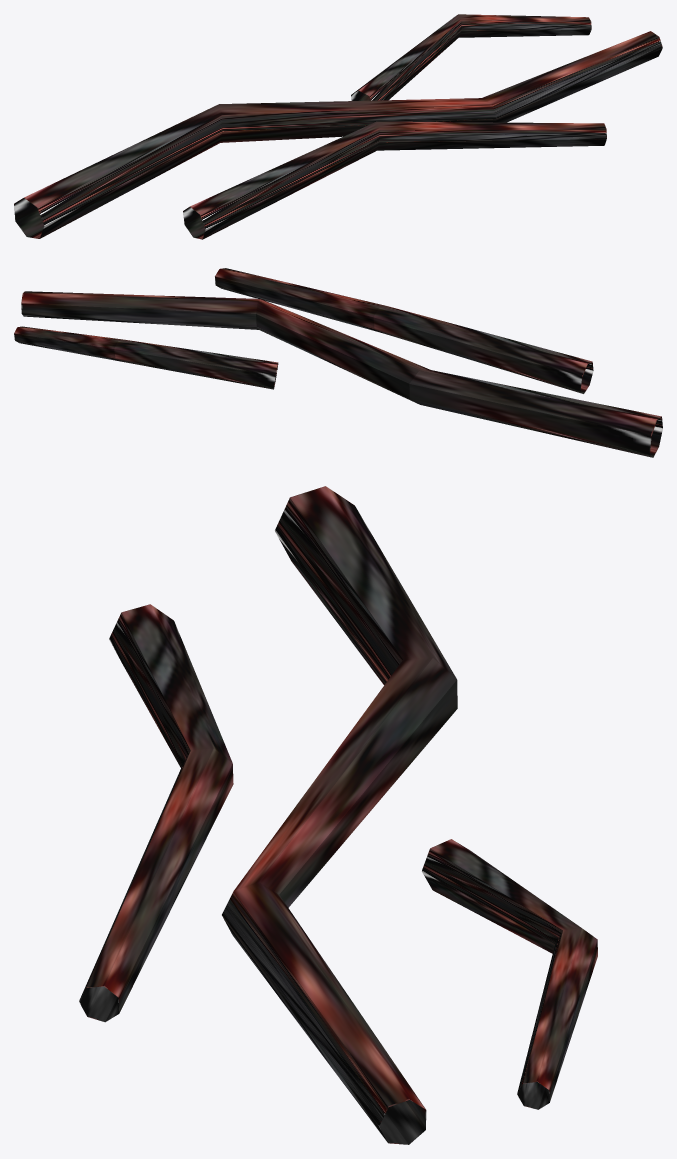
The model's file is canh-kho-roi.glb.
3 renders of one model, top to bottom at view 1: azimuth 30°, elevation 25°; view 2: azimuth 150°, elevation 25°; view 3: azimuth 270°, elevation 25°, orthographic. The views are drawn at different scales.
Visible parts, largest first — view 1: twig1; view 2: twig1; view 3: twig1.
Part boxes in pixels (x1,y1,x2,y2): twig1: (14,14,662,239); twig1: (14,268,662,457); twig1: (79,486,597,1144).
Size of the model in its own units: 0.6585 by 0.057 by 0.2392.
Materials: 1 (1 with a texture image).
